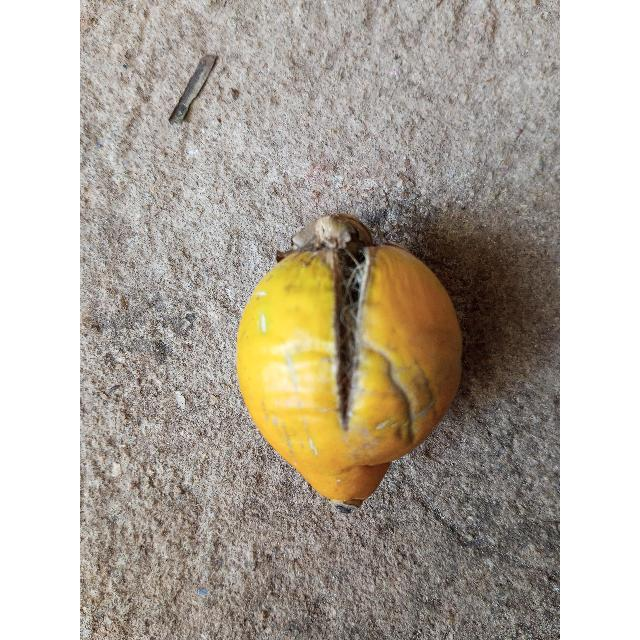damaged: (236, 215, 463, 510)
